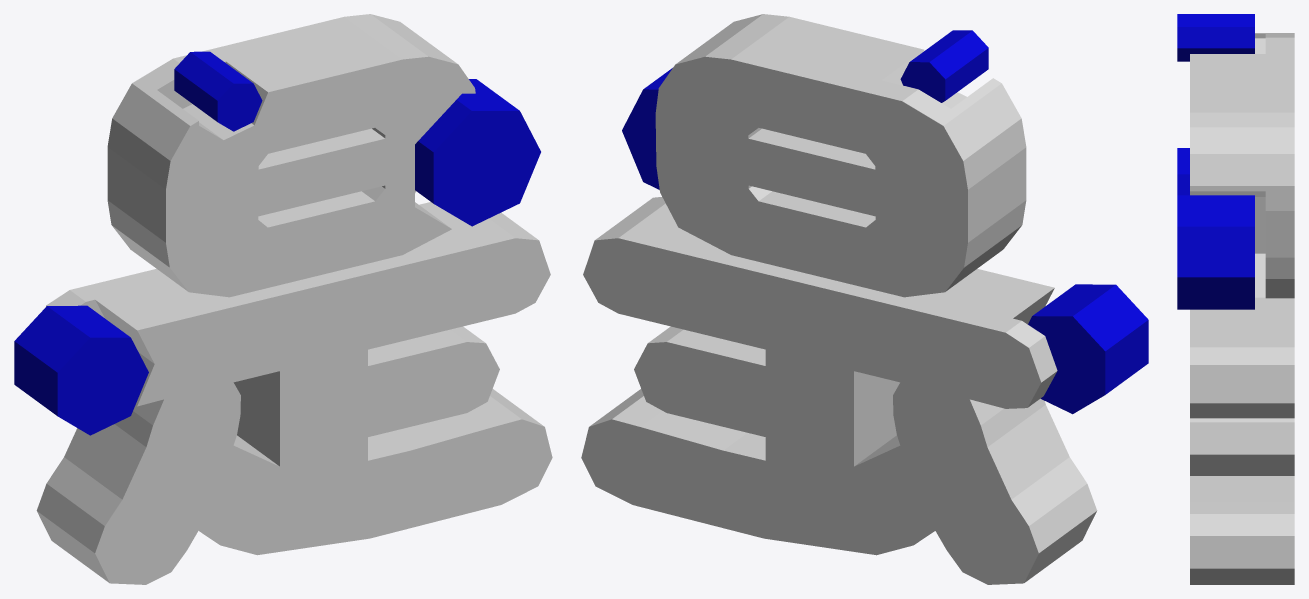
The model's file is Ch_Lite_China_是_01.fbx.
3 renders of one model, left to right at view 1: azimuth 30°, elevation 25°; view 2: azimuth 150°, elevation 25°; view 3: azimuth 270°, elevation 25°, orthographic. The views are drawn at different scales.
Visible parts, largest first — view 1: sphere1; view 2: sphere1; view 3: sphere1.
Part boxes in pixels (bbox=[...]): sphere1: bbox=[14, 14, 552, 584]; sphere1: bbox=[581, 14, 1148, 584]; sphere1: bbox=[1177, 14, 1294, 584].
Size of the model in its own units: 0.9925 by 0.9356 by 0.2242.
